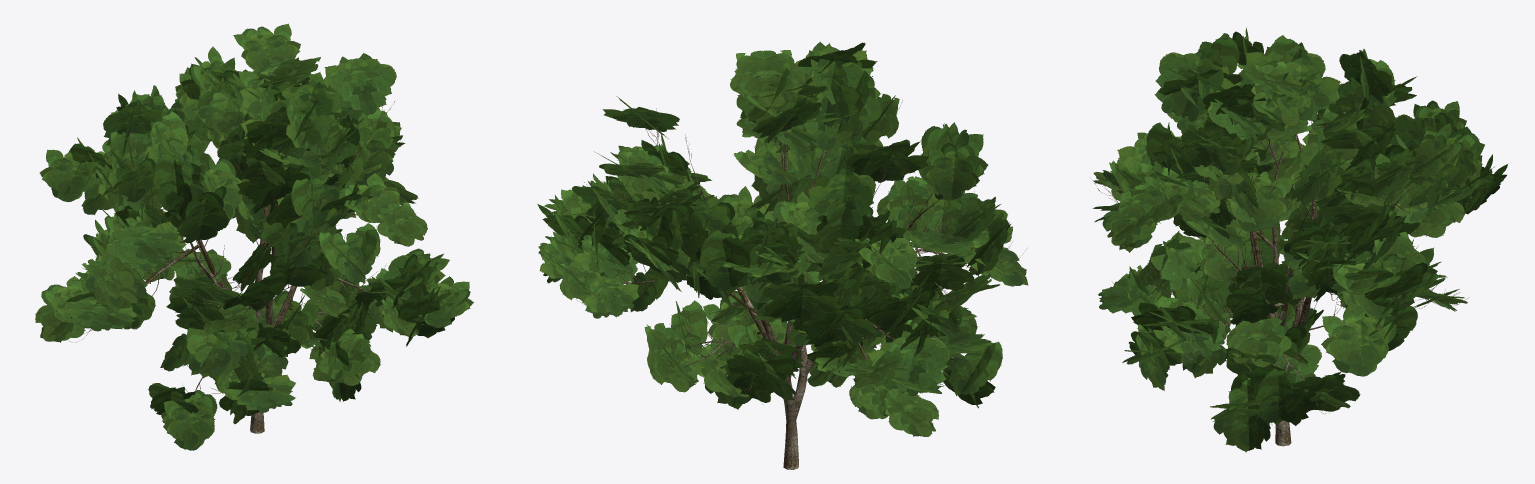
The model's file is prop_oak_real_b.glb.
3 views of the same model, side by side, from view 1: azimuth 30°, elevation 25°; view 2: azimuth 150°, elevation 25°; view 3: azimuth 270°, elevation 25° (orthographic). The views are drawn at different scales.
Parts seen in each view (by area): view 1: tree, leafcard_001, leafcard_008, leafcard_138, leafcard_109, leafcard_188, leafcard_056, leafcard_058, leafcard_229, leafcard_016, leafcard_009, leafcard_228 (+73 smaller); view 2: tree, leafcard_093, leafcard_150, leafcard_049, leafcard_129, leafcard_003, leafcard_159, leafcard_036, leafcard_042, leafcard_221, leafcard_220, leafcard_117 (+76 smaller); view 3: tree, leafcard_071, leafcard_163, leafcard_002, leafcard_104, leafcard_134, leafcard_095, leafcard_001, leafcard_191, leafcard_155, leafcard_161, leafcard_058 (+76 smaller).
Boxes of the visible parts, x1,y1,x2,y2 form: tree: (64, 71, 424, 433); leafcard_001: (322, 53, 396, 114); leafcard_008: (163, 186, 229, 243); leafcard_138: (185, 328, 248, 377); leafcard_109: (160, 390, 217, 450); leafcard_188: (112, 221, 186, 262); leafcard_056: (39, 143, 100, 202); leafcard_058: (233, 23, 300, 69); leafcard_229: (318, 334, 380, 385); leafcard_016: (153, 153, 204, 219); leafcard_009: (291, 176, 339, 229); leafcard_228: (376, 202, 427, 246); tree: (567, 74, 1026, 469); leafcard_093: (730, 50, 805, 107); leafcard_150: (808, 168, 875, 232); leafcard_049: (868, 330, 950, 395); leafcard_129: (762, 282, 842, 322); leafcard_003: (696, 229, 750, 294); leafcard_159: (923, 142, 979, 198); leafcard_036: (806, 58, 863, 127); leafcard_042: (876, 176, 934, 231); leafcard_221: (947, 341, 1002, 395); leafcard_220: (883, 388, 938, 436); leafcard_117: (582, 274, 639, 318); tree: (1091, 79, 1495, 446); leafcard_071: (1321, 306, 1396, 376); leafcard_163: (1154, 51, 1235, 121); leafcard_002: (1250, 366, 1312, 425); leafcard_104: (1213, 373, 1270, 452); leafcard_134: (1226, 317, 1291, 367); leafcard_095: (1225, 164, 1293, 231); leafcard_001: (1290, 150, 1350, 206); leafcard_191: (1251, 61, 1311, 126); leafcard_155: (1228, 260, 1301, 310); leafcard_161: (1392, 190, 1465, 237); leafcard_058: (1410, 123, 1463, 177).
Size of the model in its own units: 10.94 by 9.58 by 9.62.
Materials: 2 (2 with a texture image).
